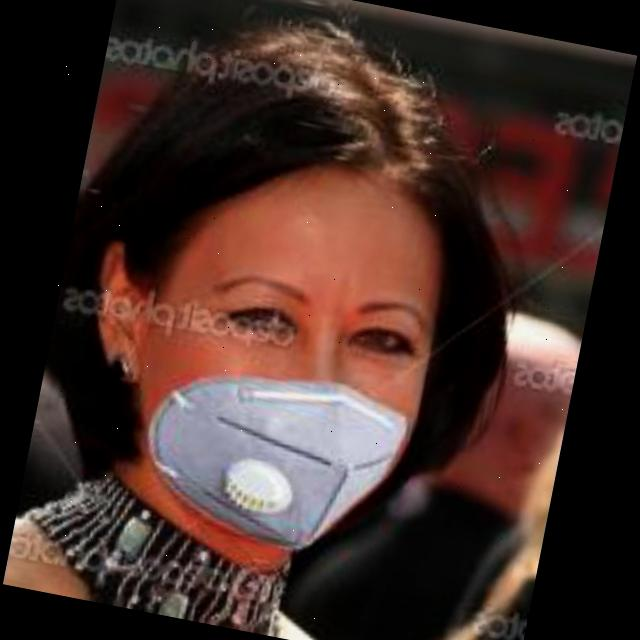suspicion: (86, 59, 492, 592)
